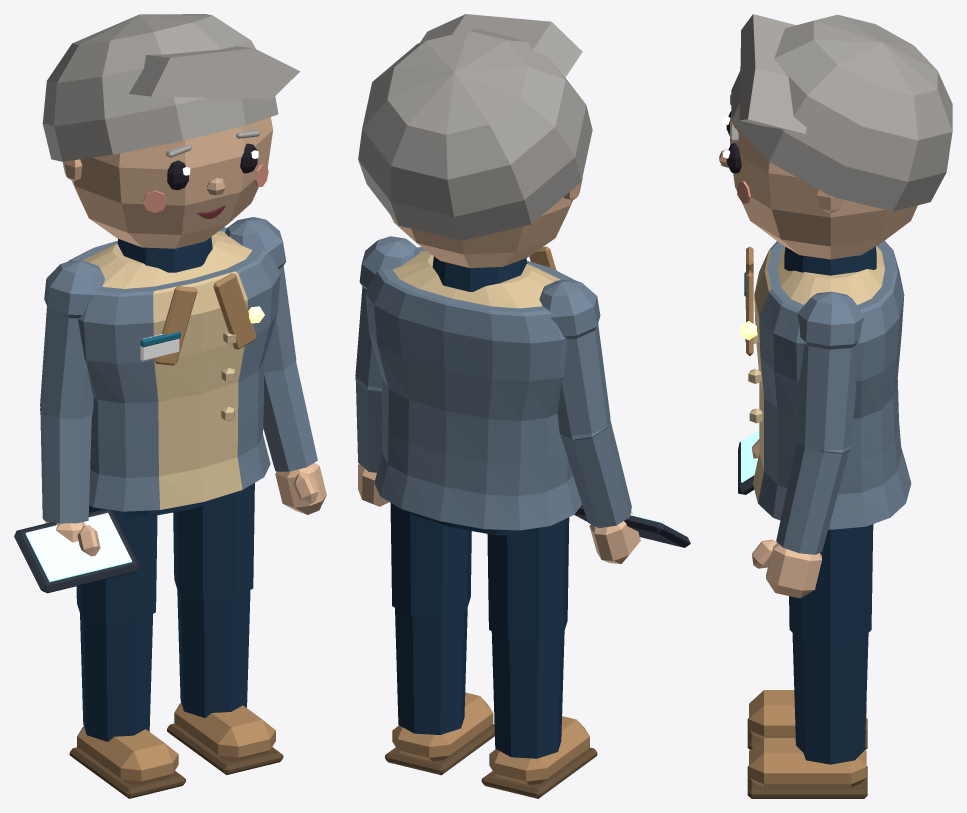
Rendered from man_rin.glb.
The picture shows the model from 3 angles, left to right: view 1: azimuth 30°, elevation 25°; view 2: azimuth 150°, elevation 25°; view 3: azimuth 270°, elevation 25°; orthographic projection.
Visible parts, largest first — view 1: jacke, haare, bein_l, kopf, bein_r, arm_r, arm_l, gegenstand_terminal, schuh_l, schuh_r, torso, revers (+6 smaller); view 2: jacke, haare, bein_r, bein_l, arm_r, arm_l, kopf, schuh_r, schuh_l, torso, kragen, hand_r (+2 smaller); view 3: haare, jacke, bein_l, arm_l, kopf, schuh_l, torso, hand_l, schuh_r, kragen, gesicht, gegenstand_terminal (+1 smaller).
Boxes of the visible parts, x1=… form: jacke: x1=68, y1=227, x2=280, y2=511; haare: x1=42, y1=14, x2=299, y2=161; bein_l: x1=173, y1=483, x2=254, y2=717; kopf: x1=62, y1=117, x2=272, y2=248; bein_r: x1=76, y1=505, x2=157, y2=741; arm_r: x1=40, y1=261, x2=105, y2=523; arm_l: x1=225, y1=217, x2=317, y2=471; gegenstand_terminal: x1=14, y1=509, x2=139, y2=593; schuh_l: x1=167, y1=702, x2=283, y2=774; schuh_r: x1=69, y1=726, x2=185, y2=798; torso: x1=83, y1=231, x2=252, y2=288; revers: x1=154, y1=273, x2=256, y2=365; jacke: x1=365, y1=247, x2=581, y2=530; haare: x1=358, y1=14, x2=592, y2=240; bein_r: x1=487, y1=517, x2=569, y2=758; bein_l: x1=390, y1=503, x2=471, y2=734; arm_r: x1=539, y1=279, x2=631, y2=527; arm_l: x1=355, y1=236, x2=420, y2=472; kopf: x1=390, y1=177, x2=582, y2=267; schuh_r: x1=481, y1=716, x2=597, y2=798; schuh_l: x1=385, y1=692, x2=494, y2=775; torso: x1=392, y1=250, x2=560, y2=308; kragen: x1=432, y1=256, x2=527, y2=291; hand_r: x1=589, y1=511, x2=640, y2=563; haare: x1=731, y1=14, x2=952, y2=211; jacke: x1=753, y1=240, x2=911, y2=529; bein_l: x1=789, y1=525, x2=873, y2=764; arm_l: x1=776, y1=291, x2=864, y2=554; kopf: x1=730, y1=114, x2=917, y2=259; schuh_l: x1=747, y1=737, x2=867, y2=798; torso: x1=777, y1=246, x2=884, y2=304; hand_l: x1=752, y1=539, x2=821, y2=598; schuh_r: x1=747, y1=690, x2=867, y2=749; kragen: x1=784, y1=246, x2=876, y2=275; gesicht: x1=719, y1=94, x2=750, y2=203; gegenstand_terminal: x1=738, y1=430, x2=759, y2=494.
Bounding box in the file's own units: 0.012 × 0.0276 × 0.00798.
